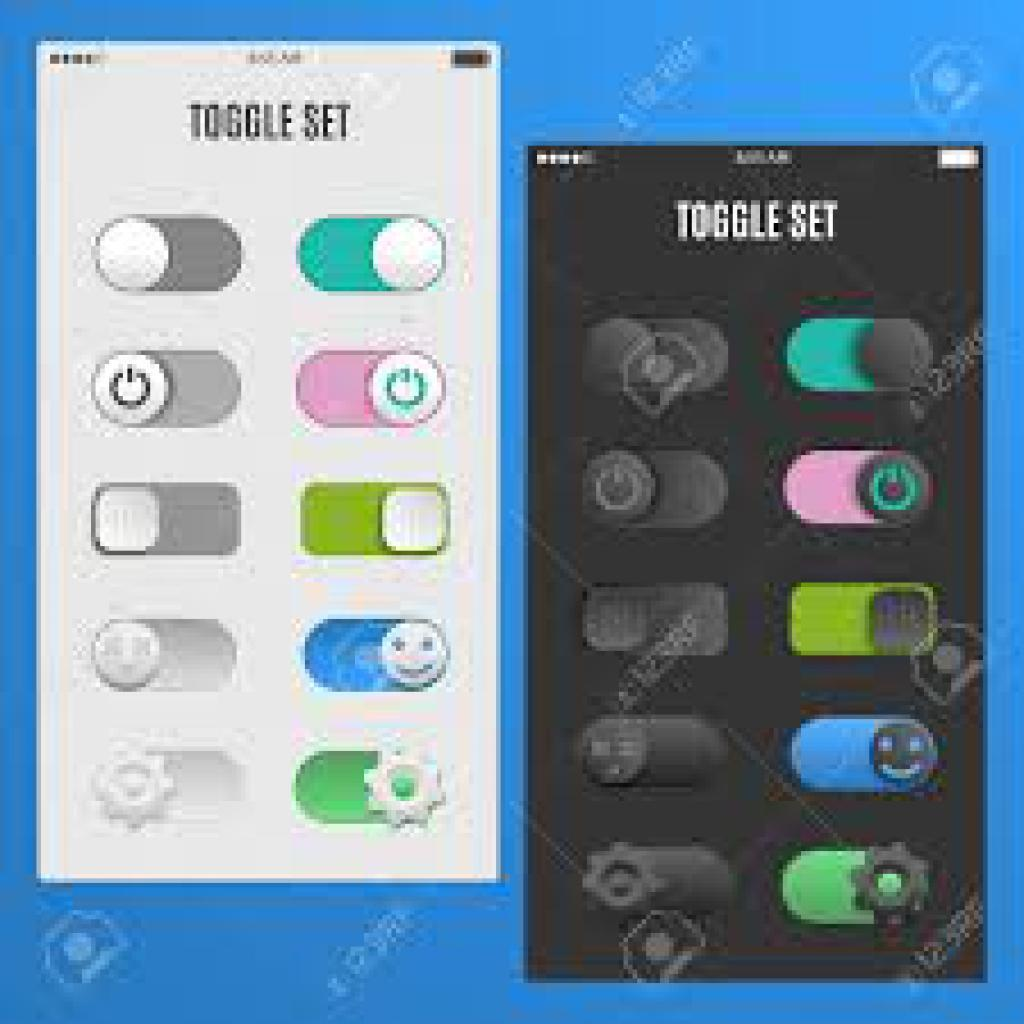switch: (86, 210, 254, 309), (84, 349, 257, 438), (293, 473, 456, 567), (85, 736, 251, 828), (90, 471, 247, 567), (784, 574, 944, 668), (773, 305, 940, 395), (291, 208, 456, 299), (784, 440, 936, 535), (289, 740, 449, 830), (295, 616, 457, 703), (771, 841, 944, 921), (84, 610, 244, 696), (293, 343, 449, 430), (779, 713, 949, 790)
